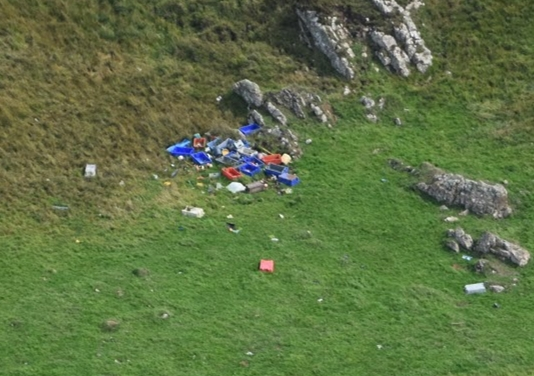scattered_barrel: (174, 200, 293, 281)
together_barrel: (159, 121, 303, 200)
white_in_green: (447, 265, 501, 310), (67, 147, 119, 190)
